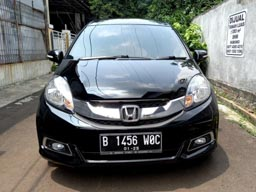plat: (100, 135, 162, 145)
